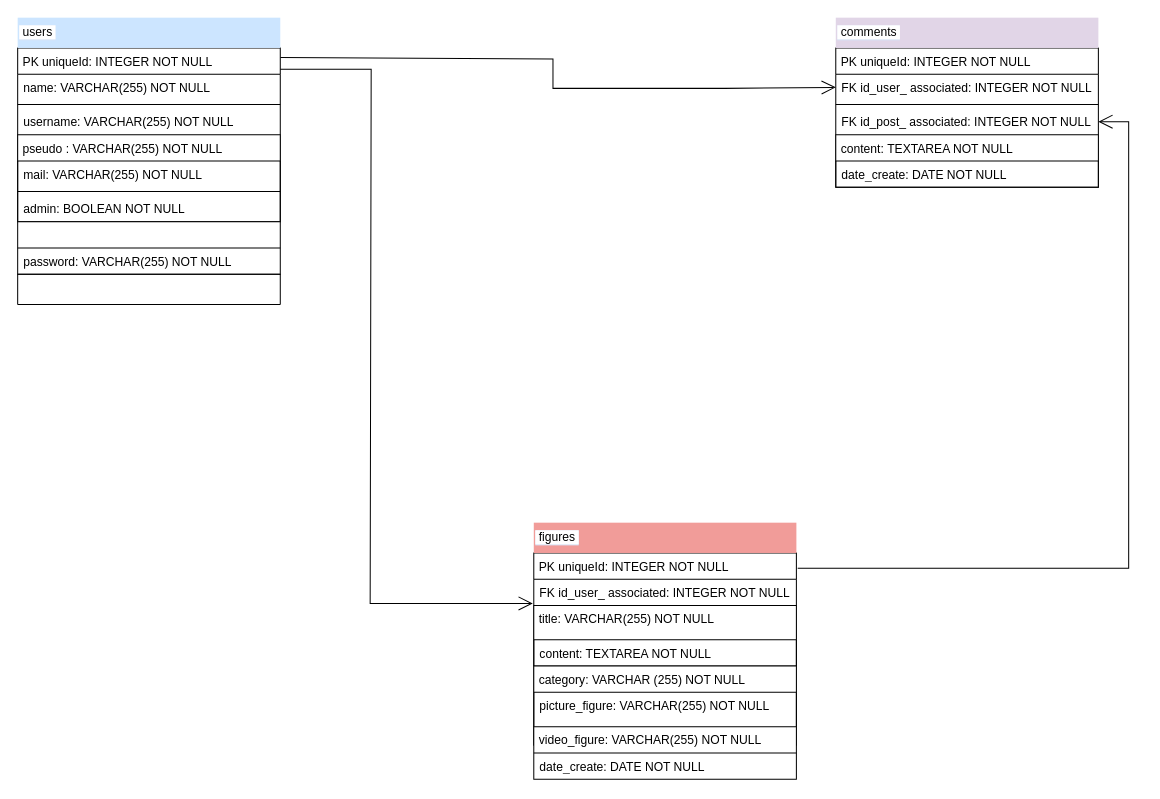
This 1160x799 diagram has some shape labels left out. Here are the shapes that lost their labels. From the top down, the centre of each, then its label:
At (148,247): "activated: BOOLEAN NOT NULL".
At (148,289): "picture_user: VARCHAR(255) NOT NULL".
